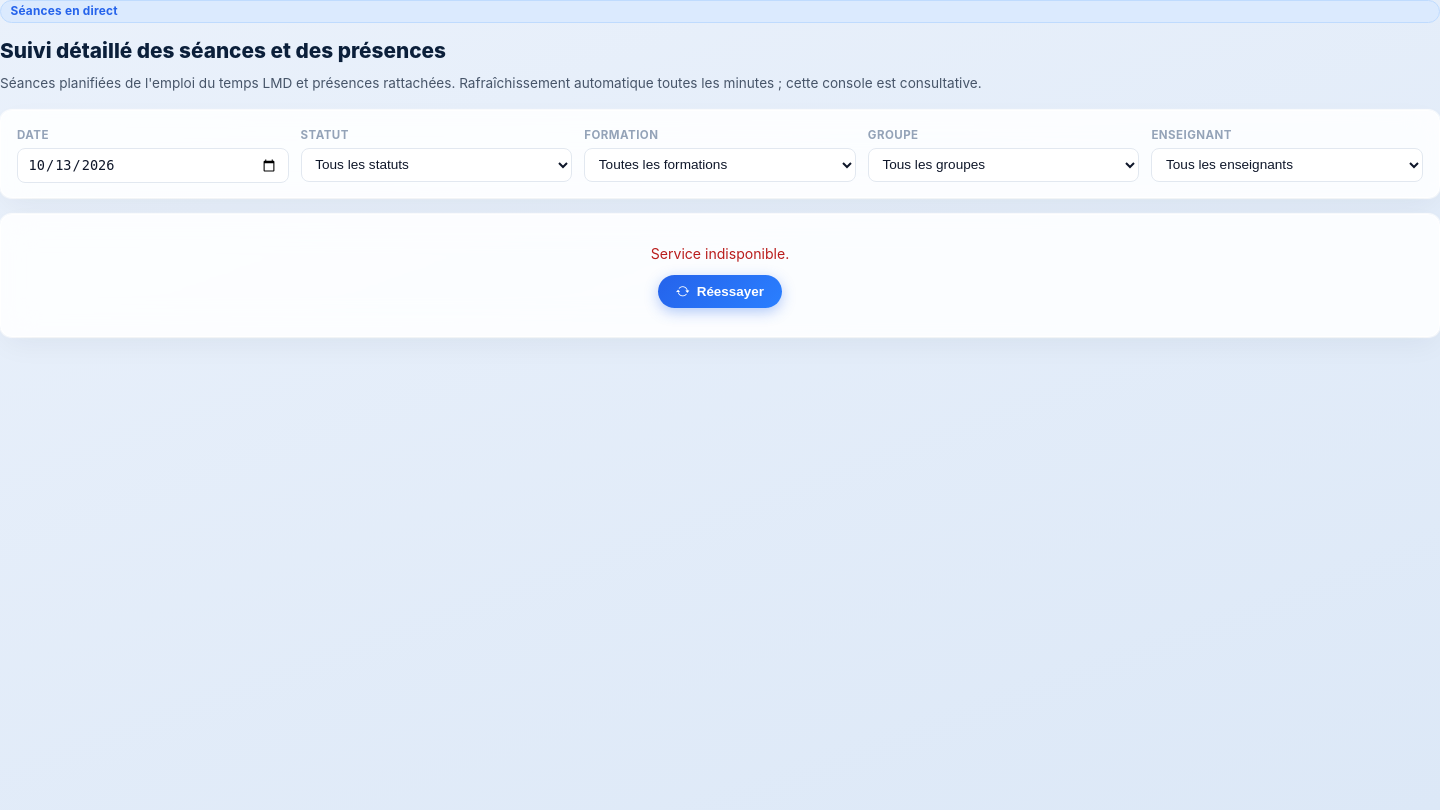
Scenario: Séances en direct — supervision LMD des séances et des présences › affiche l'erreur API puis permet le retry
Expected: the element with test id "seance-erreur" is shown, [0,214,1439,337]
Expected: the text "Service indisponible." is shown, [651,243,789,266]
Click the button "Réessayer". click: x=720, y=291
box: [658,275,782,308]
(page scrolled)
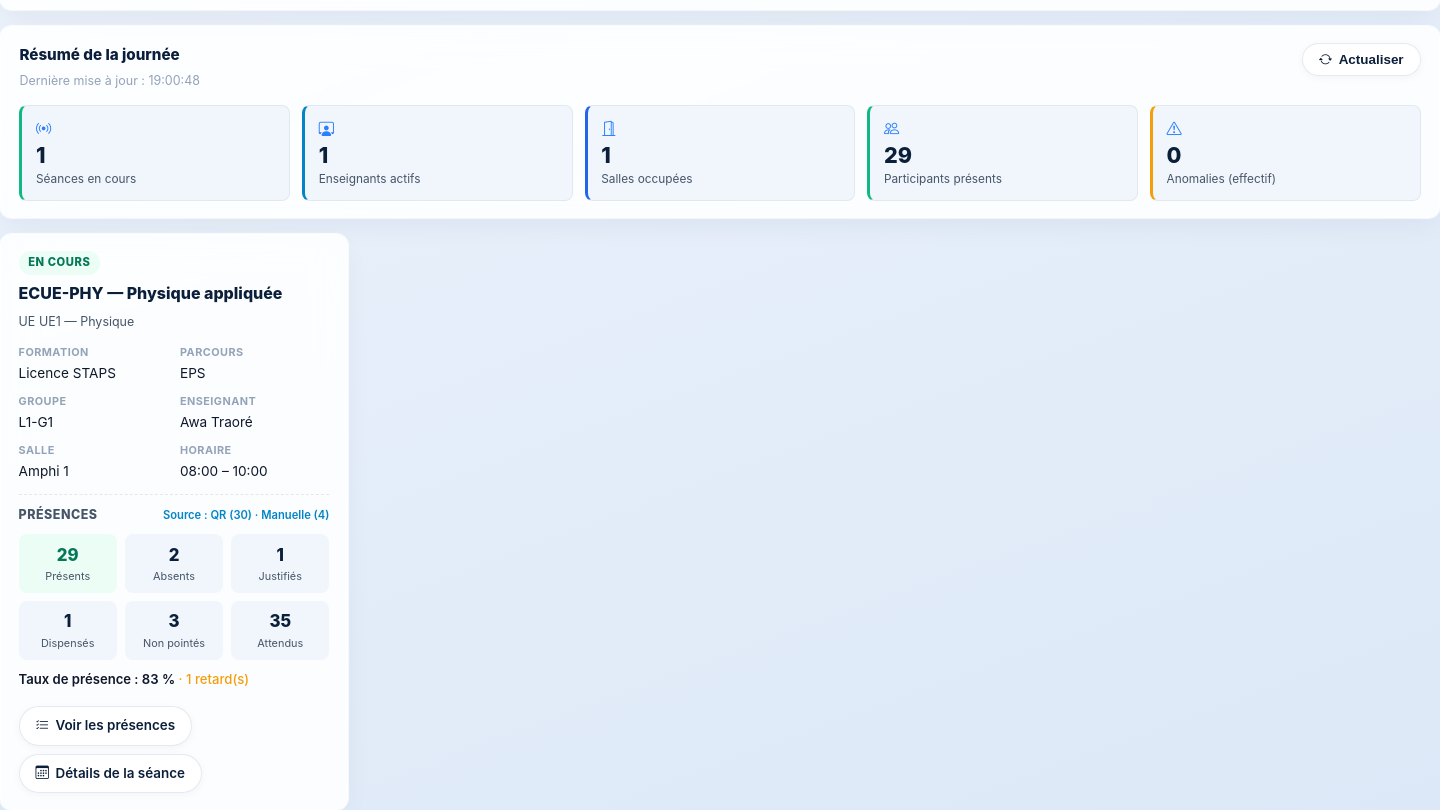
Result: the element with test id "seance-41" is shown at [0,234,348,809]
